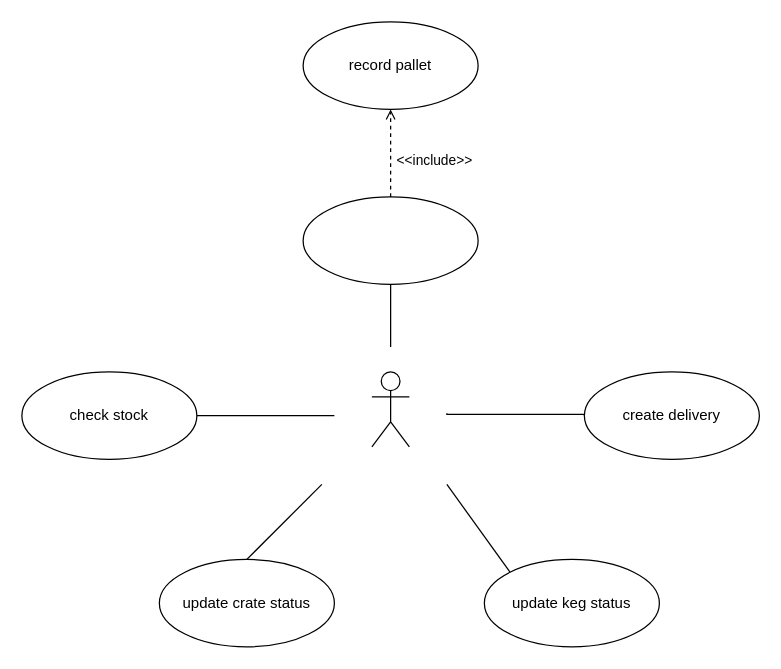
This 781x669 diagram has some shape labels left out. Here are the shapes that lost their labels. From the top down, the centre of each, then its label:
(x=390, y=240): record goods receipt
(x=390, y=409): warehouse worker
